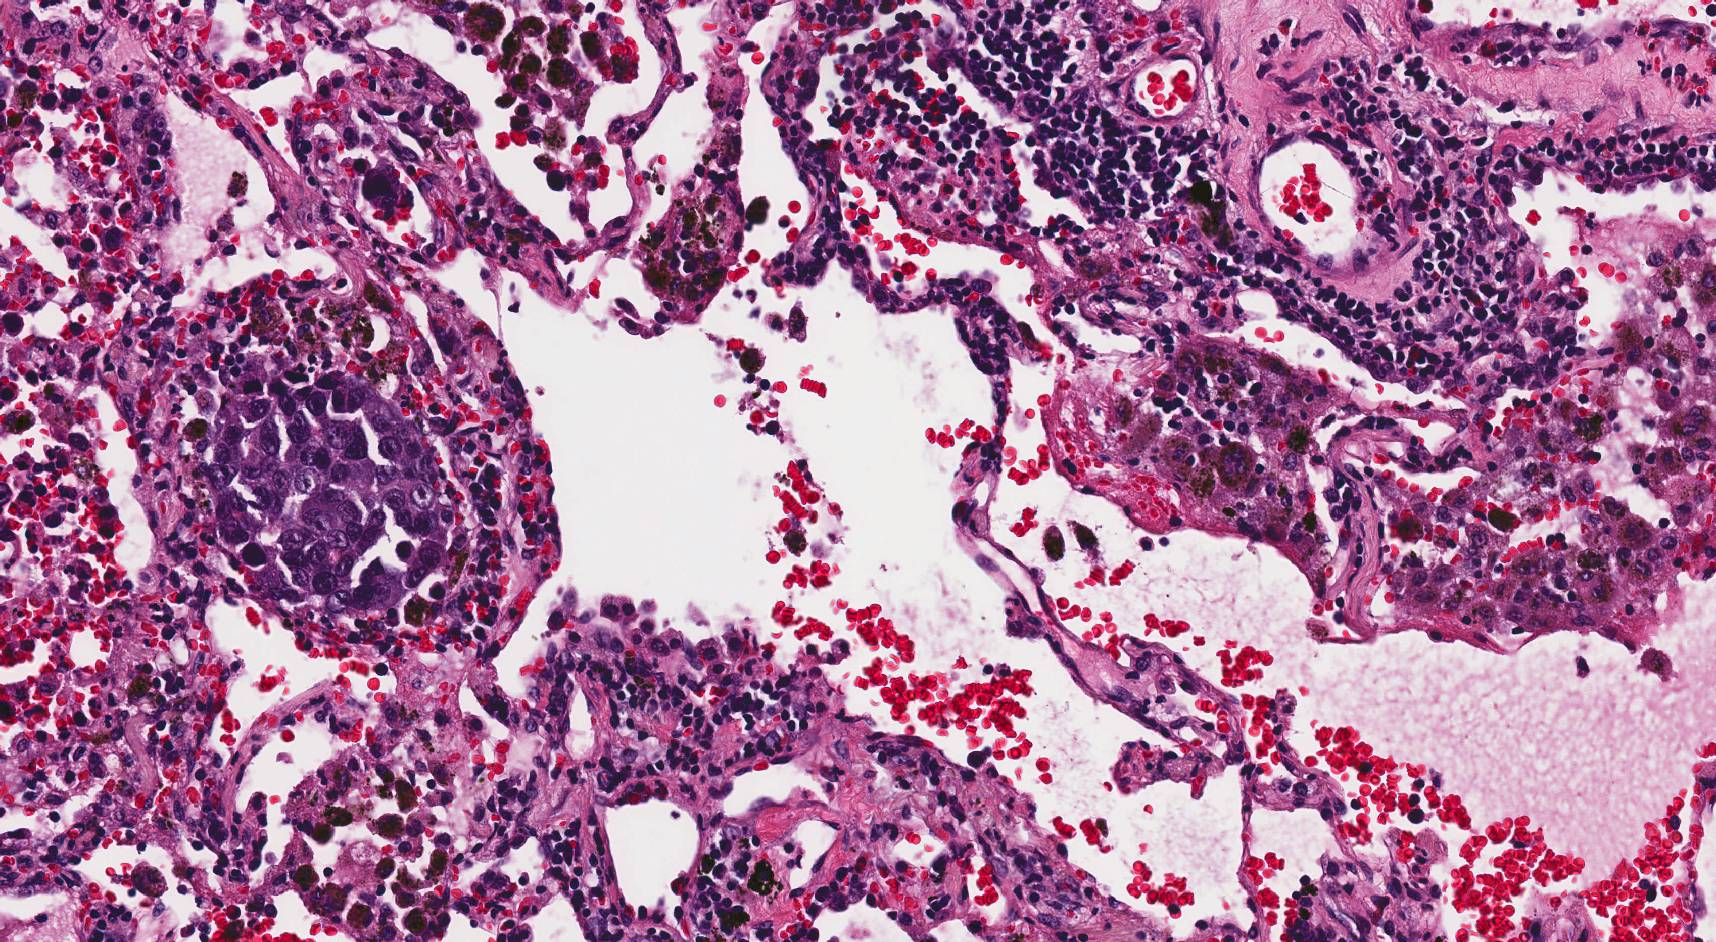stas: (206, 368, 449, 613)
